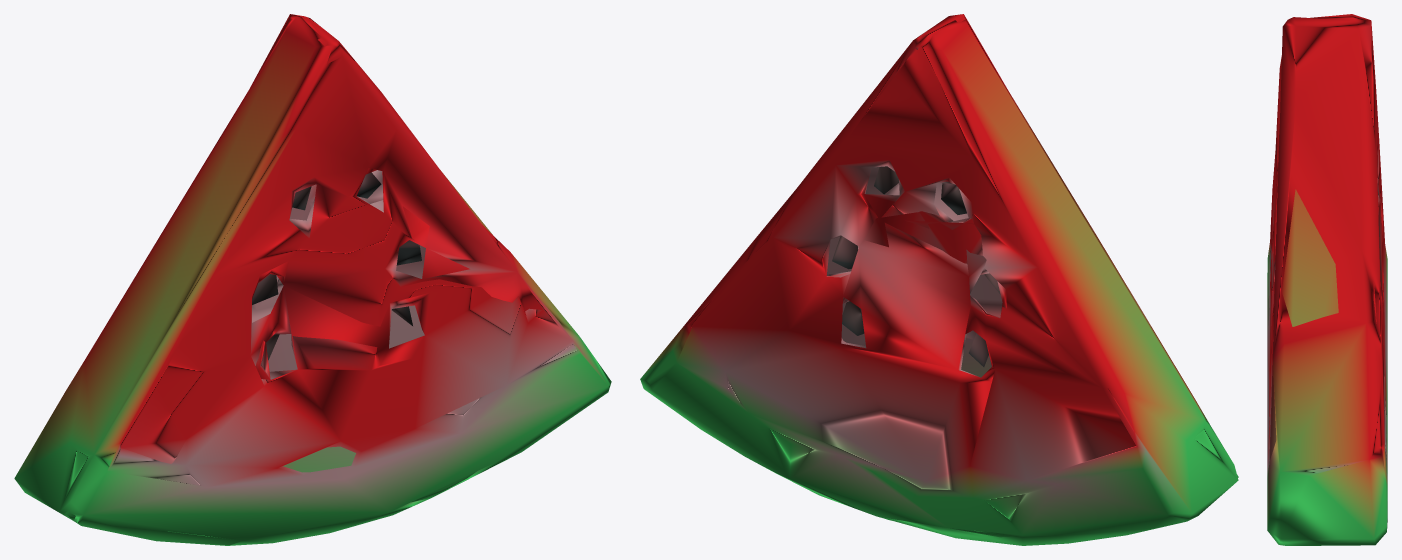
Rendered from gen3d-watermelon-slice-lod1.glb.
The picture shows the model from 3 angles, left to right: view 1: azimuth 30°, elevation 25°; view 2: azimuth 150°, elevation 25°; view 3: azimuth 270°, elevation 25°; orthographic projection. The views are drawn at different scales.
Parts seen in each view (by area): view 1: part_0; view 2: part_0; view 3: part_0.
Boxes of the visible parts, bbox=[...] form: part_0: bbox=[14, 14, 611, 545]; part_0: bbox=[640, 14, 1238, 545]; part_0: bbox=[1267, 14, 1387, 545].
Bounding box in the file's own units: 1.18 × 0.9952 × 0.2303.
